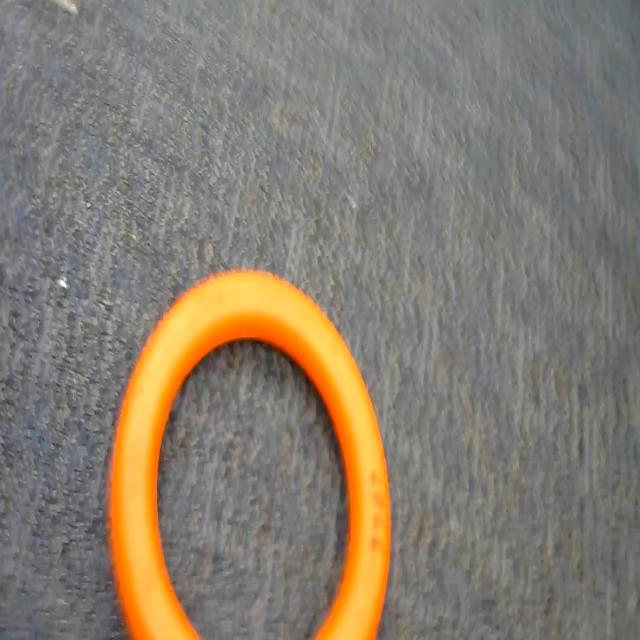note: (89, 249, 396, 640)
